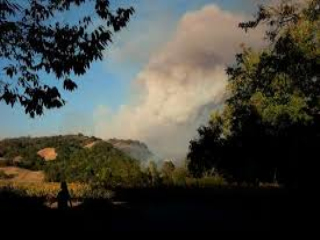smoke: (130, 10, 258, 140)
